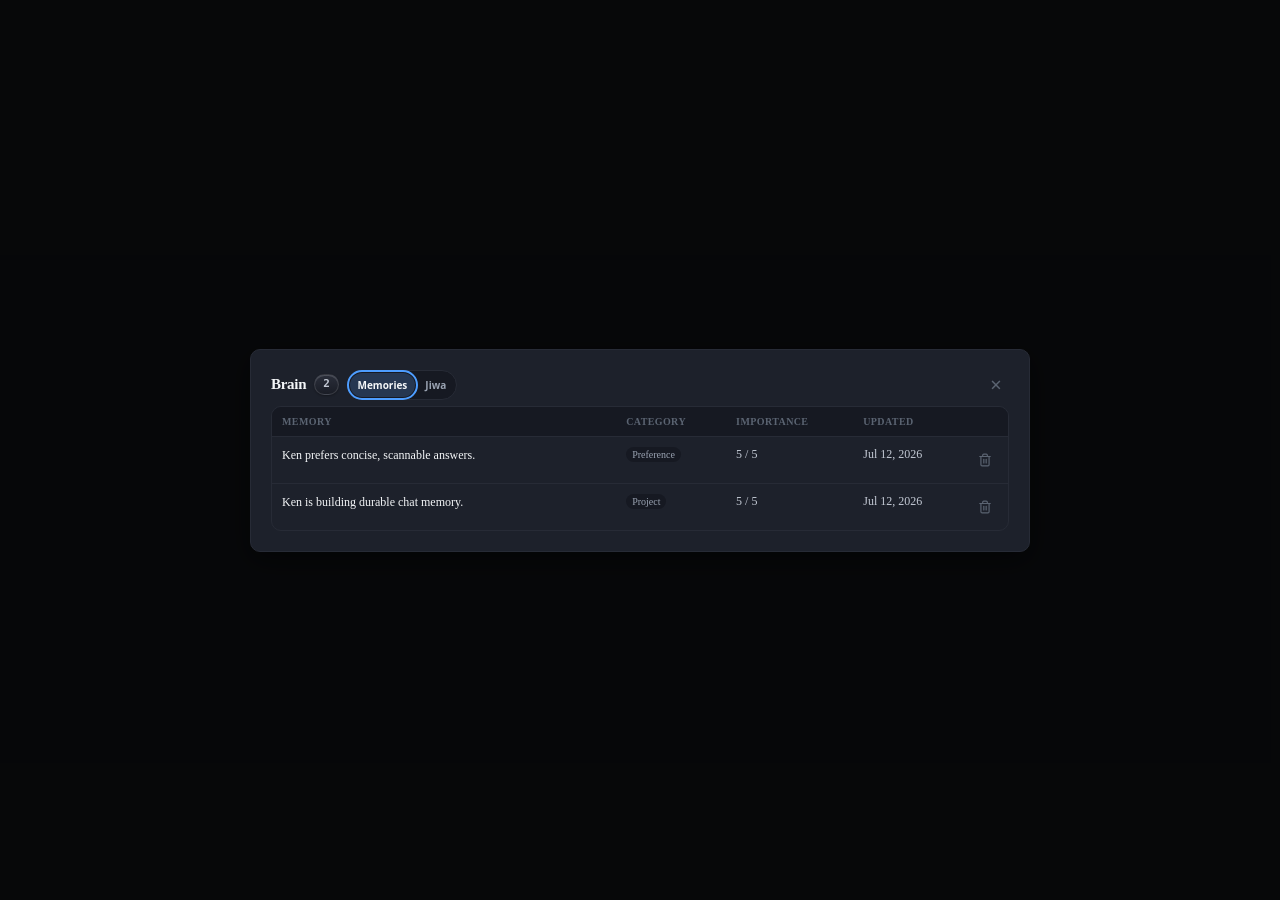
Test: MemoryModal › refreshes each table from its matching change event
Expected: the text "Ken prefers concise, scannable answers." is shown, [272,436,616,483]
Expected: the text "Ken is building durable chat memory." is shown, [272,483,616,530]
Step 1. Click the tab "Jiwa" → (436, 384), box [417,372,454,396]
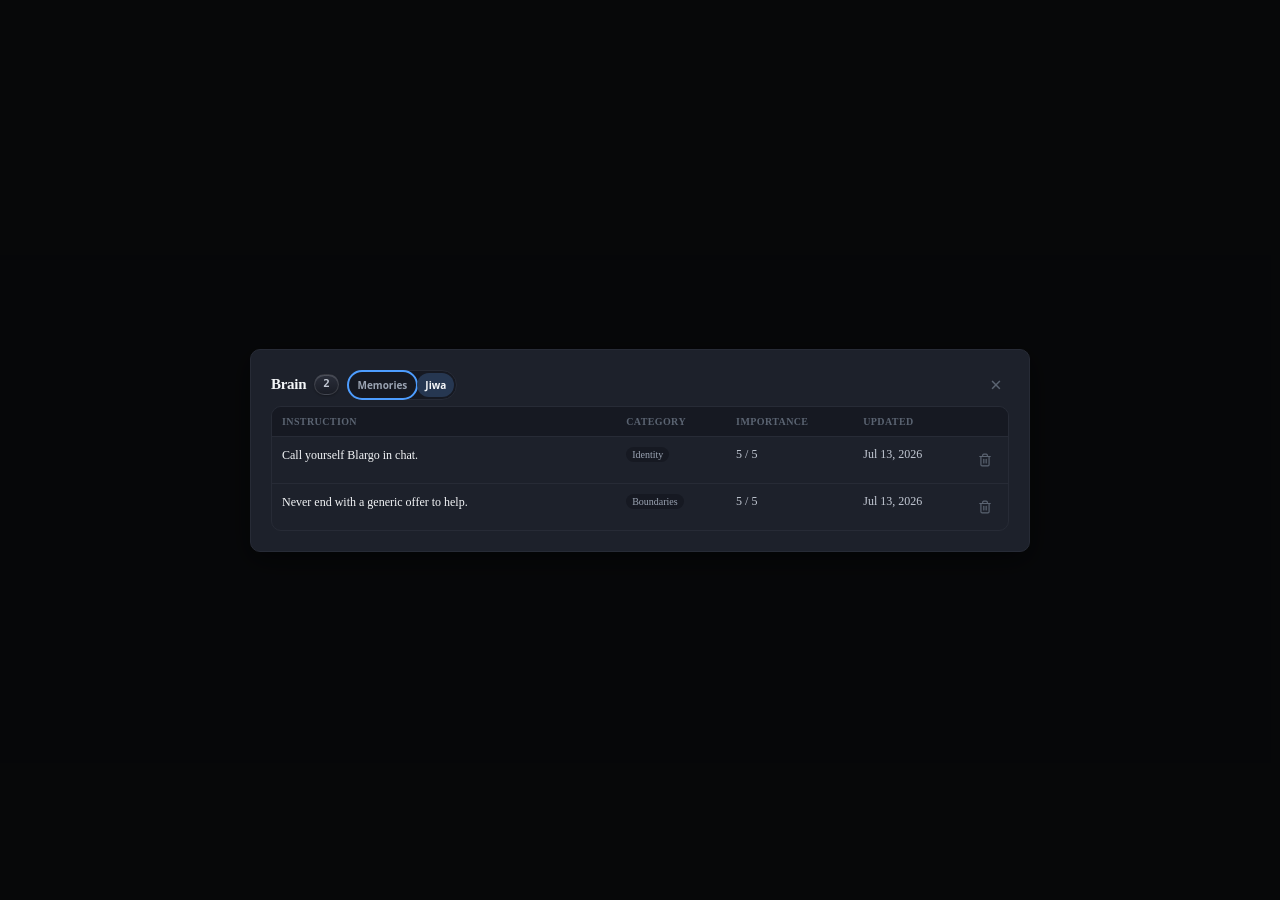
Expected: the text with class "badge" reads "2", [323,377,330,390]
Expected: the text "Never end with a generic offer to help." is shown, [272,483,616,530]
